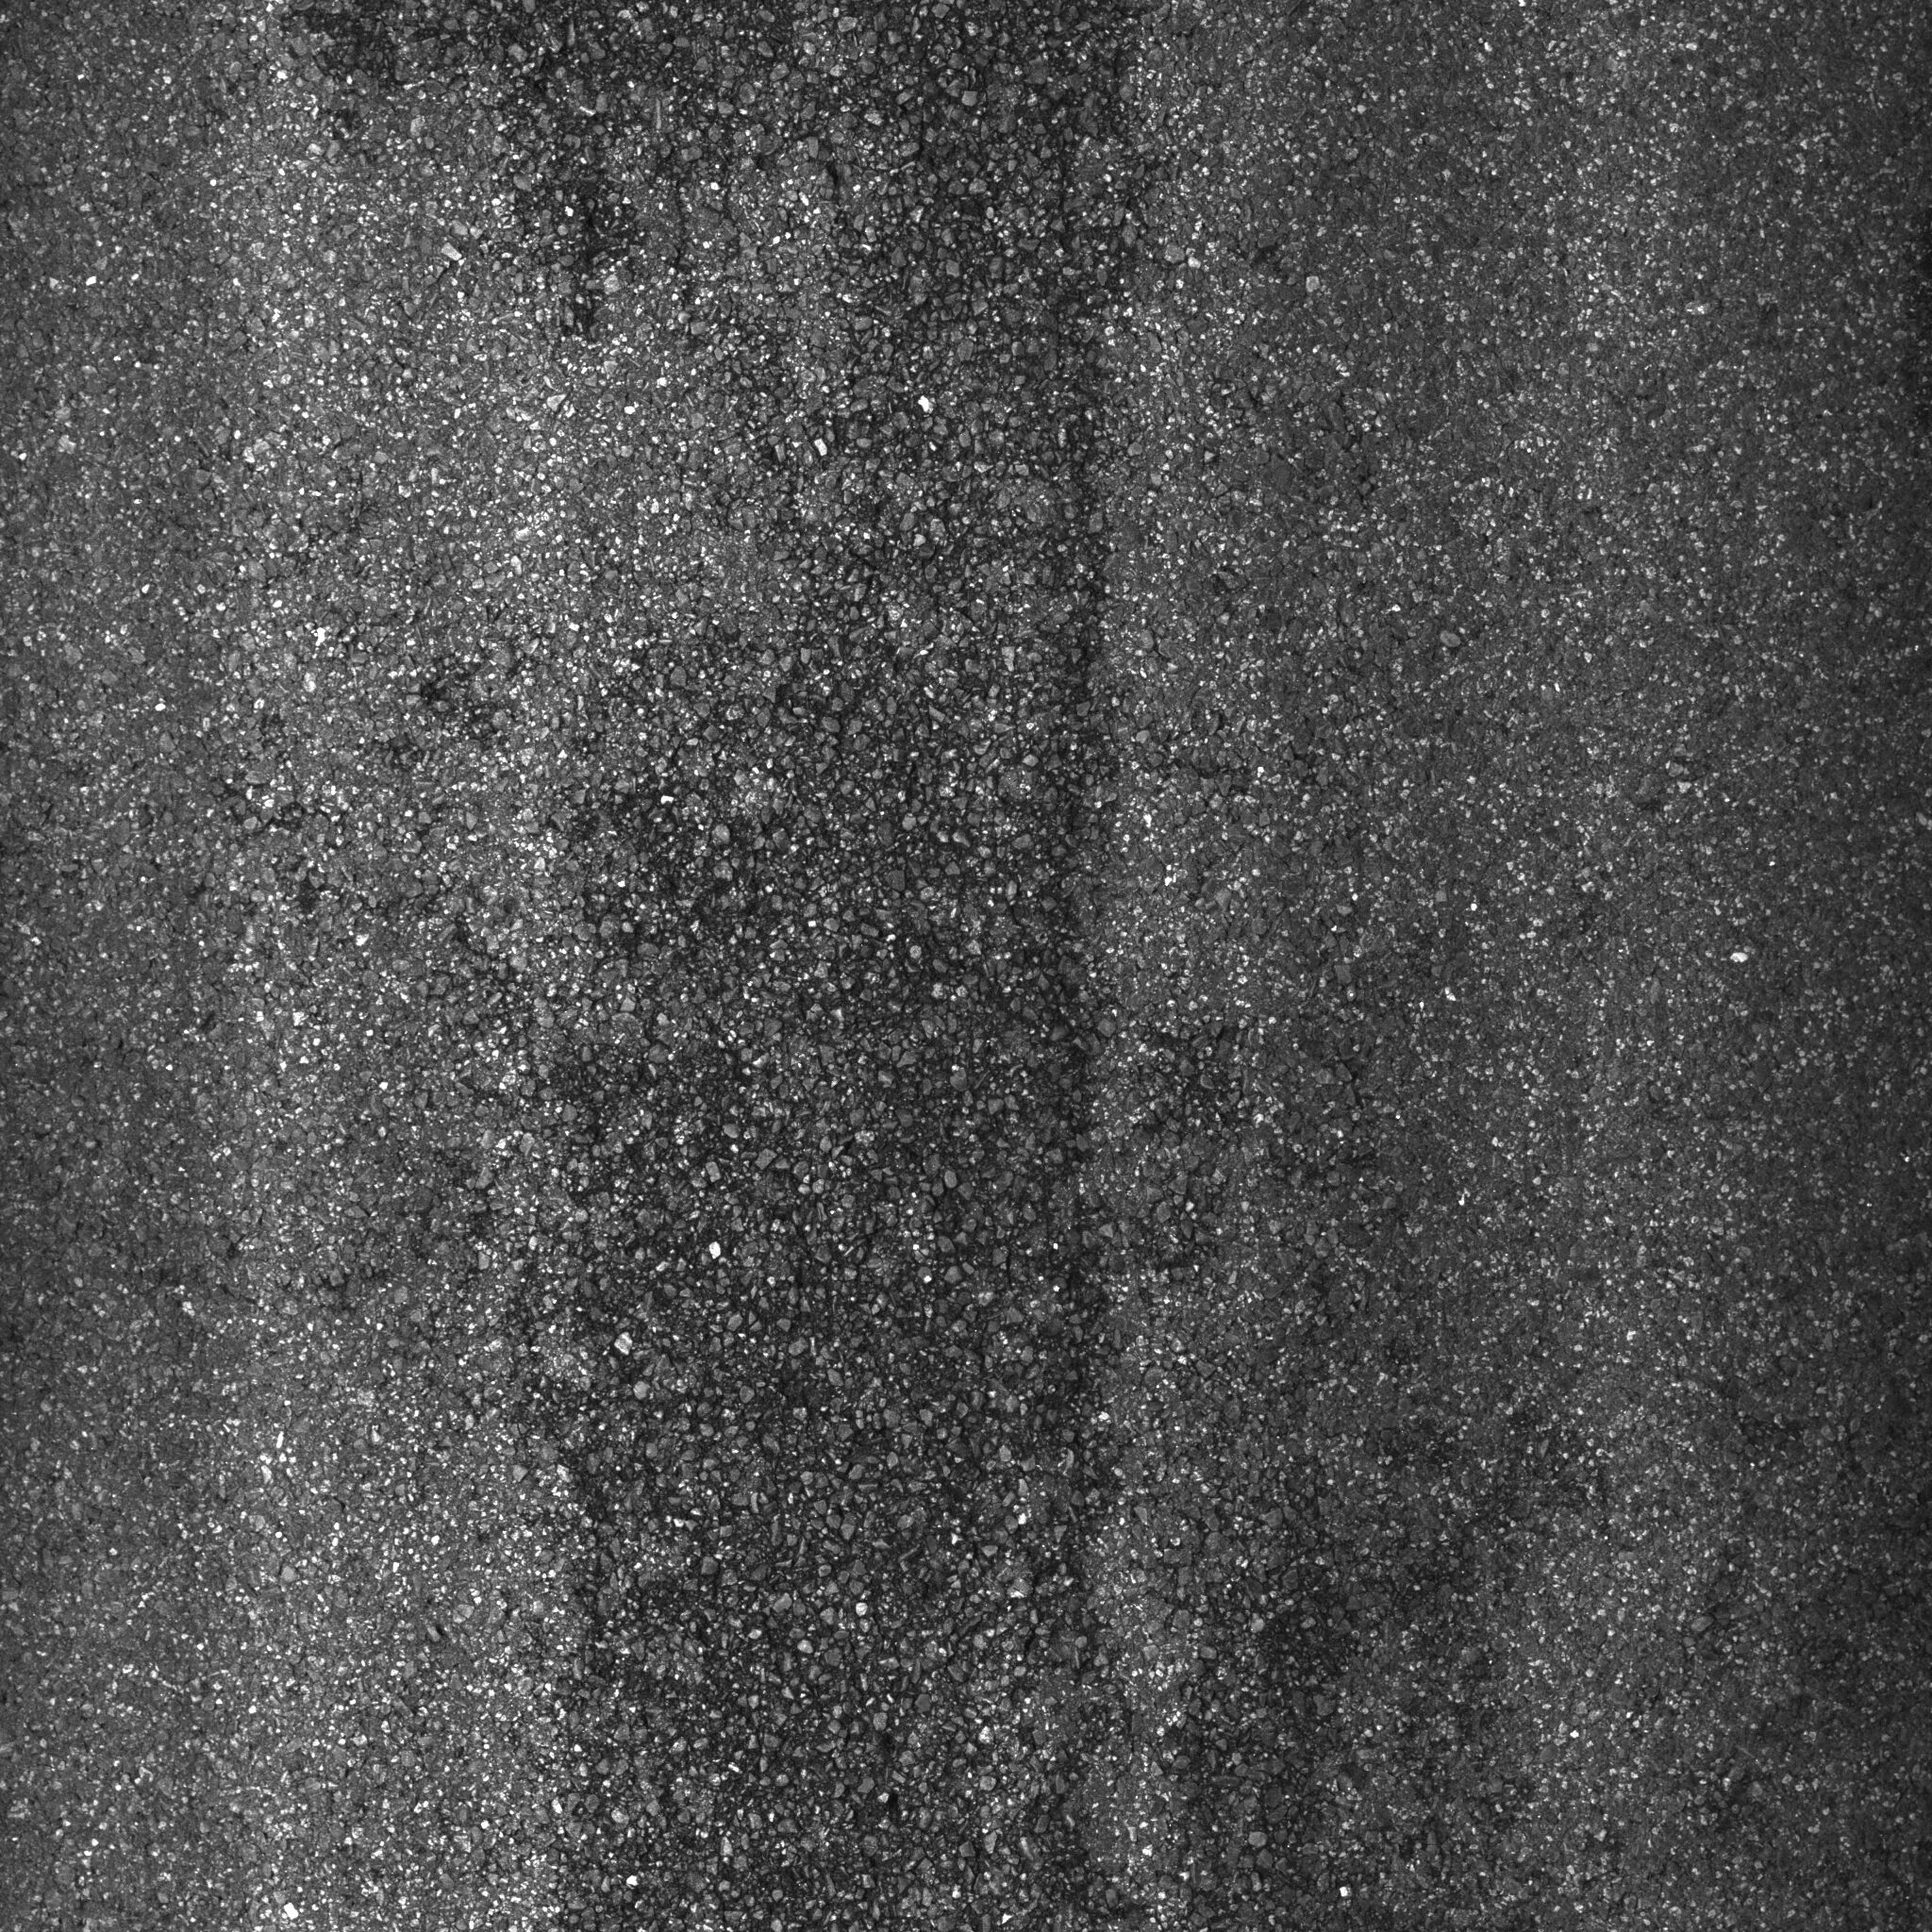alligator: (253, 4, 1233, 1537)
